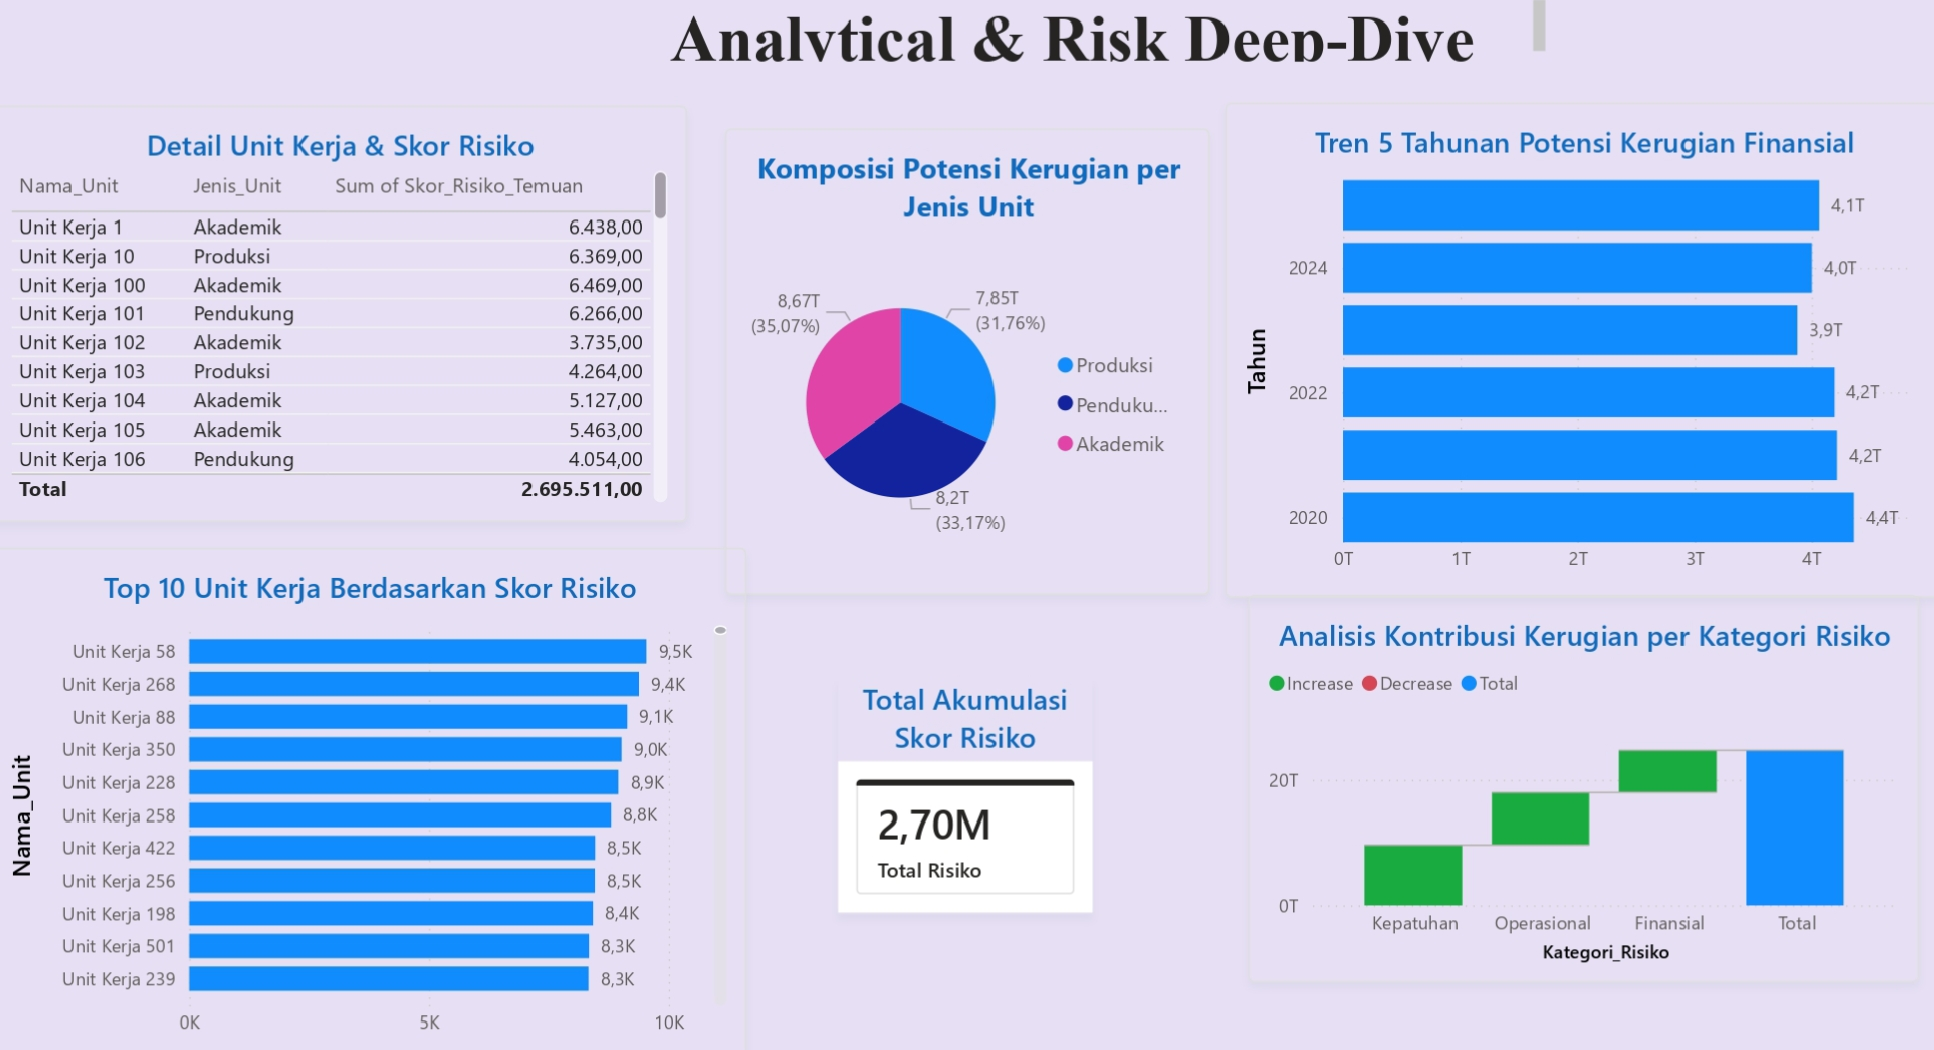

Layout of this report page (visuals, bound fields, positions):
{"tool":"powerbi","page":{"name":"Analytical & Risk Deep-Dive","canvas":[1280,720],"ordinal":1},"visuals":[{"type":"barChart","title":"Tren 5 Tahunan Potensi Kerugian Finansial","fields":{"Category":["Dimensi_Waktu.Tahun"],"Y":["Sum(Fakta_Temuan_Rekomendasi.Potensi_Kerugian_IDR)"]},"box":[810,85,470,325],"z":0},{"type":"pieChart","title":"Komposisi Potensi Kerugian per Jenis Unit","fields":{"Category":["dataDimensi_Unit_Kerja.Jenis_Unit"],"Y":["Sum(Fakta_Temuan_Rekomendasi.Potensi_Kerugian_IDR)"]},"box":[481.7,101.7,318.3,306.7],"z":1000},{"type":"waterfallChart","title":"Analisis Kontribusi Kerugian per Kategori Risiko","fields":{"Category":["Dimensi_Temuan.Kategori_Risiko"],"Y":["Sum(Fakta_Temuan_Rekomendasi.Potensi_Kerugian_IDR)"]},"box":[825,408.3,440,253.3],"z":2000},{"type":"barChart","title":"Top 10 Unit Kerja Berdasarkan Skor Risiko","fields":{"Y":["Sum(Fakta_Temuan_Rekomendasi.Skor_Risiko_Temuan)"],"Category":["Dimensi_Unit_Kerja.Nama_Unit"]},"box":[0,377.1,495.7,337.1],"z":3000},{"type":"tableEx","title":"Detail Unit Kerja & Skor Risiko","fields":{"Values":["dataDimensi_Unit_Kerja.Nama_Unit","dataDimensi_Unit_Kerja.Jenis_Unit","Sum(Fakta_Temuan_Rekomendasi.Skor_Risiko_Temuan)"]},"box":[0,86.7,456.7,273.3],"z":4000},{"type":"cardVisual","title":"Total Akumulasi Skor Risiko","fields":{"Data":["Dimensi_Auditor.Total Risiko"]},"box":[555.7,462.9,167.1,154.3],"z":5000},{"type":"textbox","box":[401.3,13.2,623.7,59.2],"z":6000}]}

Visuals, with their boxes on the page's 1280x720 design canvas (x1, y1, x2, y2). These are canvas units, not pixel positions in the 1934x1050 screenshot, which may show the page scaled, cropped or inside an application window:
"Tren 5 Tahunan Potensi Kerugian Finansial" barChart: <bbox>810, 85, 1280, 410</bbox>
"Komposisi Potensi Kerugian per Jenis Unit" pieChart: <bbox>482, 102, 800, 408</bbox>
"Analisis Kontribusi Kerugian per Kategori Risiko" waterfallChart: <bbox>825, 408, 1265, 662</bbox>
"Top 10 Unit Kerja Berdasarkan Skor Risiko" barChart: <bbox>0, 377, 496, 714</bbox>
"Detail Unit Kerja & Skor Risiko" tableEx: <bbox>0, 87, 457, 360</bbox>
"Total Akumulasi Skor Risiko" cardVisual: <bbox>556, 463, 723, 617</bbox>
textbox: <bbox>401, 13, 1025, 72</bbox>
